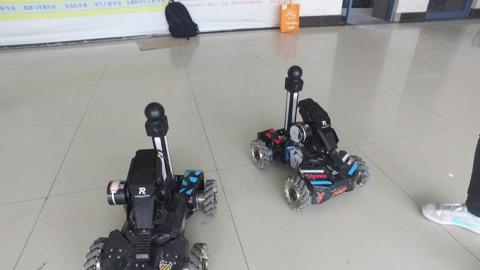bag: (159, 1, 209, 46), (274, 1, 308, 35)
chariot: (88, 102, 217, 270), (247, 62, 370, 212)
